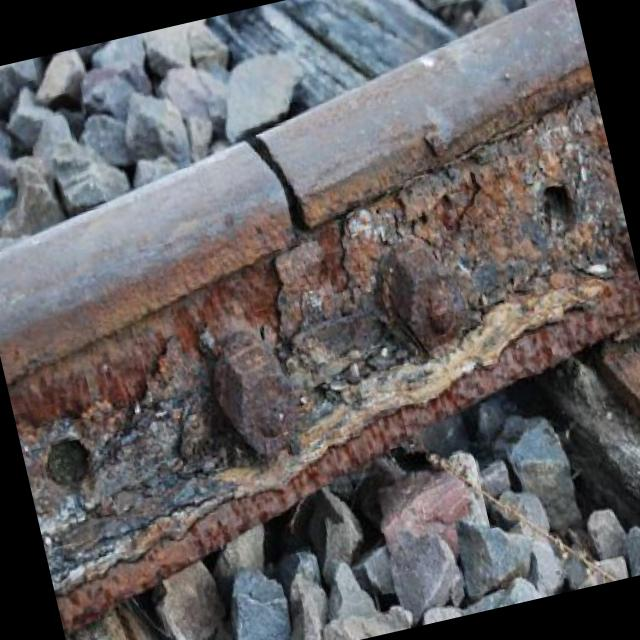defective: (0, 1, 640, 630)
